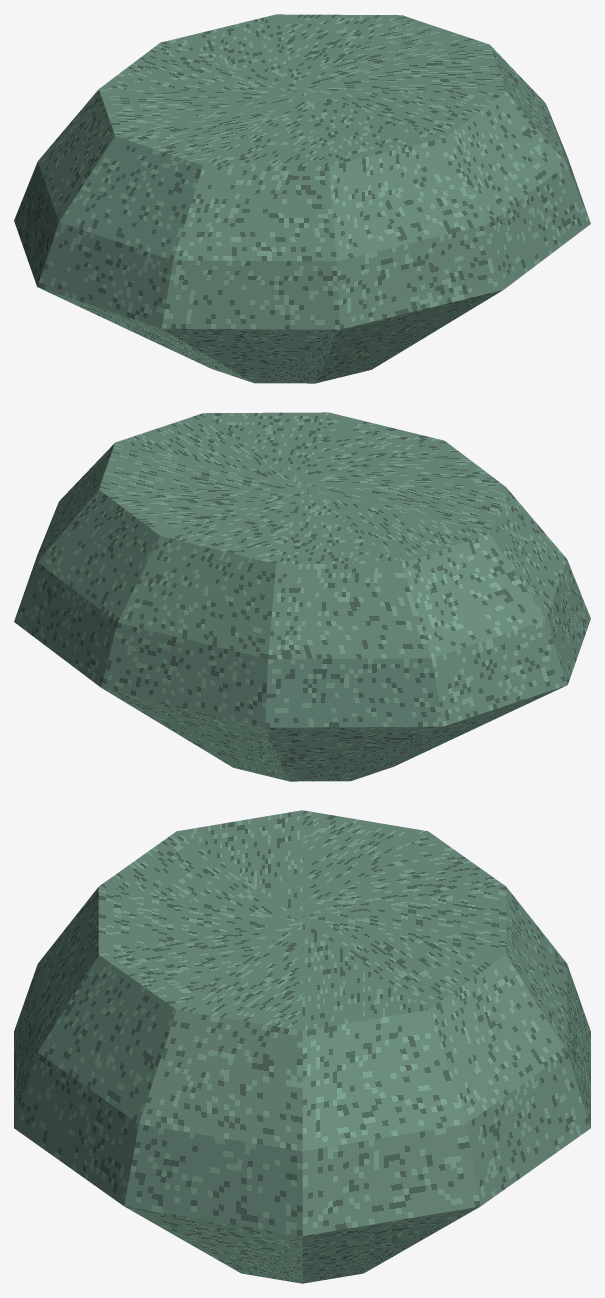
File: alexandrite.glb
3 views of the same model, one above another, from view 1: azimuth 30°, elevation 25°; view 2: azimuth 150°, elevation 25°; view 3: azimuth 270°, elevation 25° (orthographic). The views are drawn at different scales.
Parts seen in each view (by area): view 1: block_faceted cut stone; view 2: block_faceted cut stone; view 3: block_faceted cut stone.
Boxes of the visible parts, x1,y1,x2,y2 form: block_faceted cut stone: (14, 14, 590, 383); block_faceted cut stone: (14, 412, 590, 781); block_faceted cut stone: (14, 810, 590, 1283).
Bounding box in the file's own units: 0.0505 × 0.0246 × 0.0394.
Materials: 1 (1 with a texture image).
